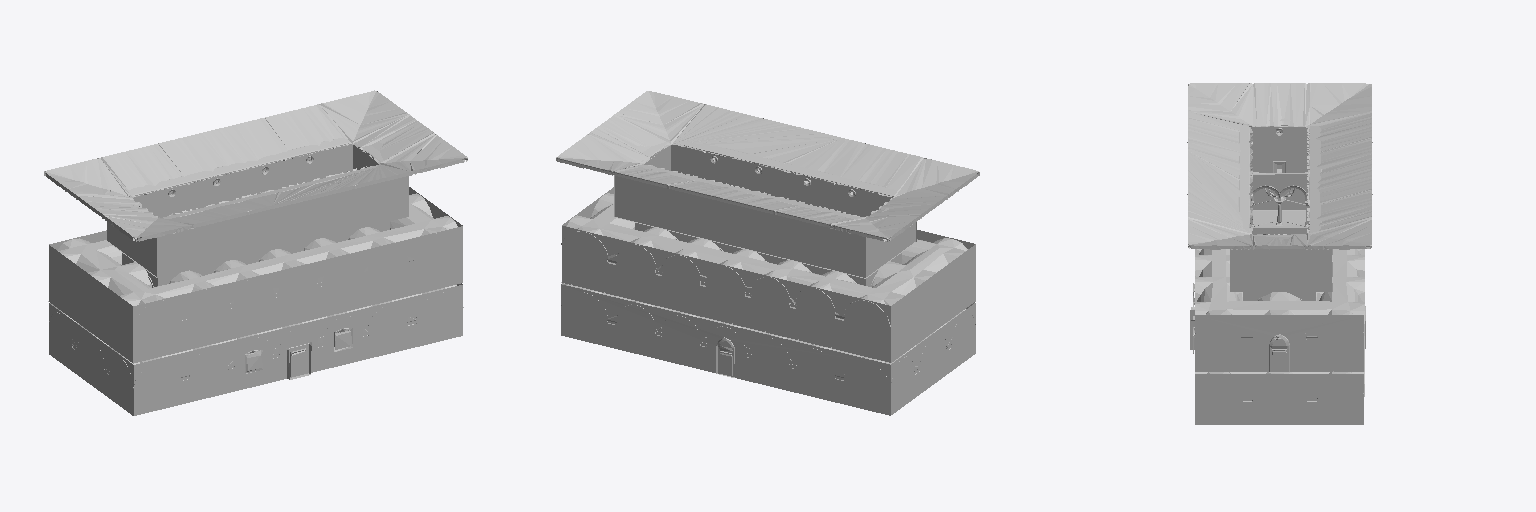
File: sponza simple.obj
The picture shows the model from 3 angles: view 1: azimuth 30°, elevation 25°; view 2: azimuth 150°, elevation 25°; view 3: azimuth 270°, elevation 25°; orthographic projection.
Bounding box in the file's own units: 5.38 × 2.85 × 2.59.